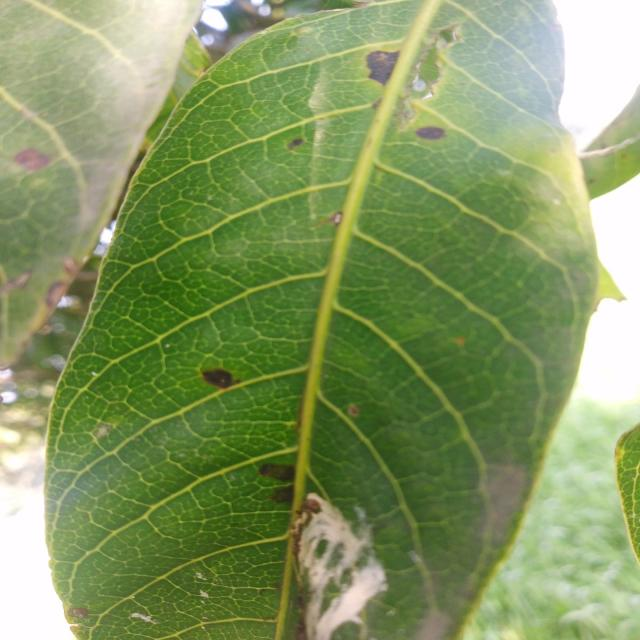Anthracnose: (194, 358, 245, 397), (366, 44, 401, 86), (413, 120, 443, 146)
Powdery Mildew: (306, 509, 404, 640)
